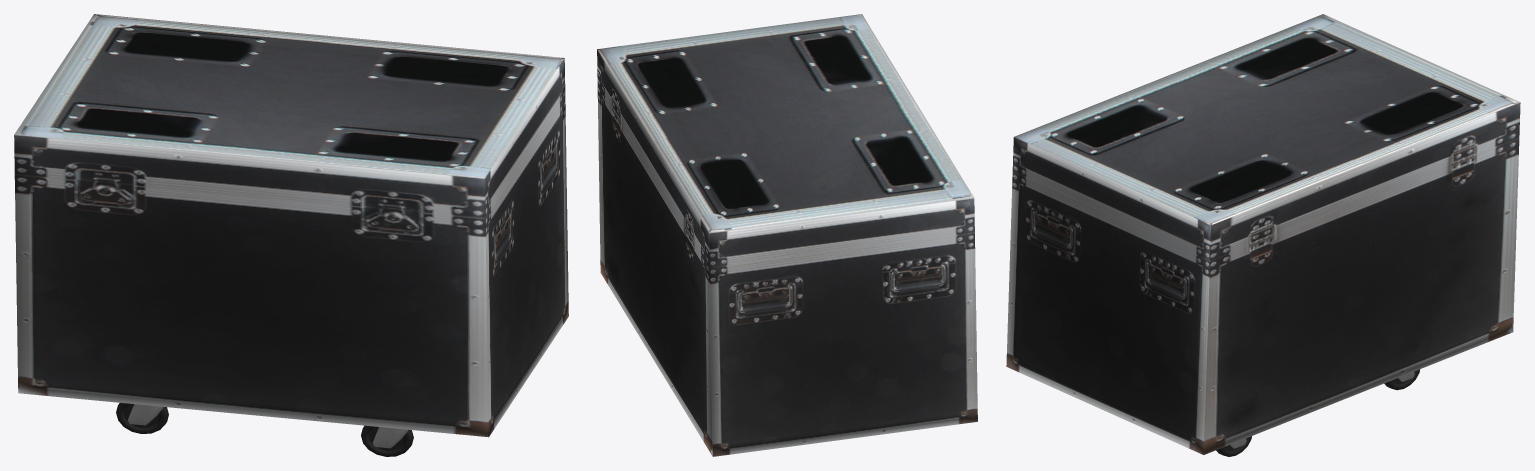
Rendered from Sound_Equipment_Box.fbx.
3 renders of one model, left to right at view 1: azimuth 30°, elevation 25°; view 2: azimuth 150°, elevation 25°; view 3: azimuth 270°, elevation 25°, orthographic. The views are drawn at different scales.
Parts seen in each view (by area): view 1: SM_164_Sound_Equipment; view 2: SM_164_Sound_Equipment; view 3: SM_164_Sound_Equipment.
Part boxes in pixels (x1,y1,x2,y2): SM_164_Sound_Equipment: (14, 14, 568, 456); SM_164_Sound_Equipment: (597, 14, 977, 456); SM_164_Sound_Equipment: (1006, 14, 1520, 456).
Size of the model in its own units: 128 by 79.16 by 130.
